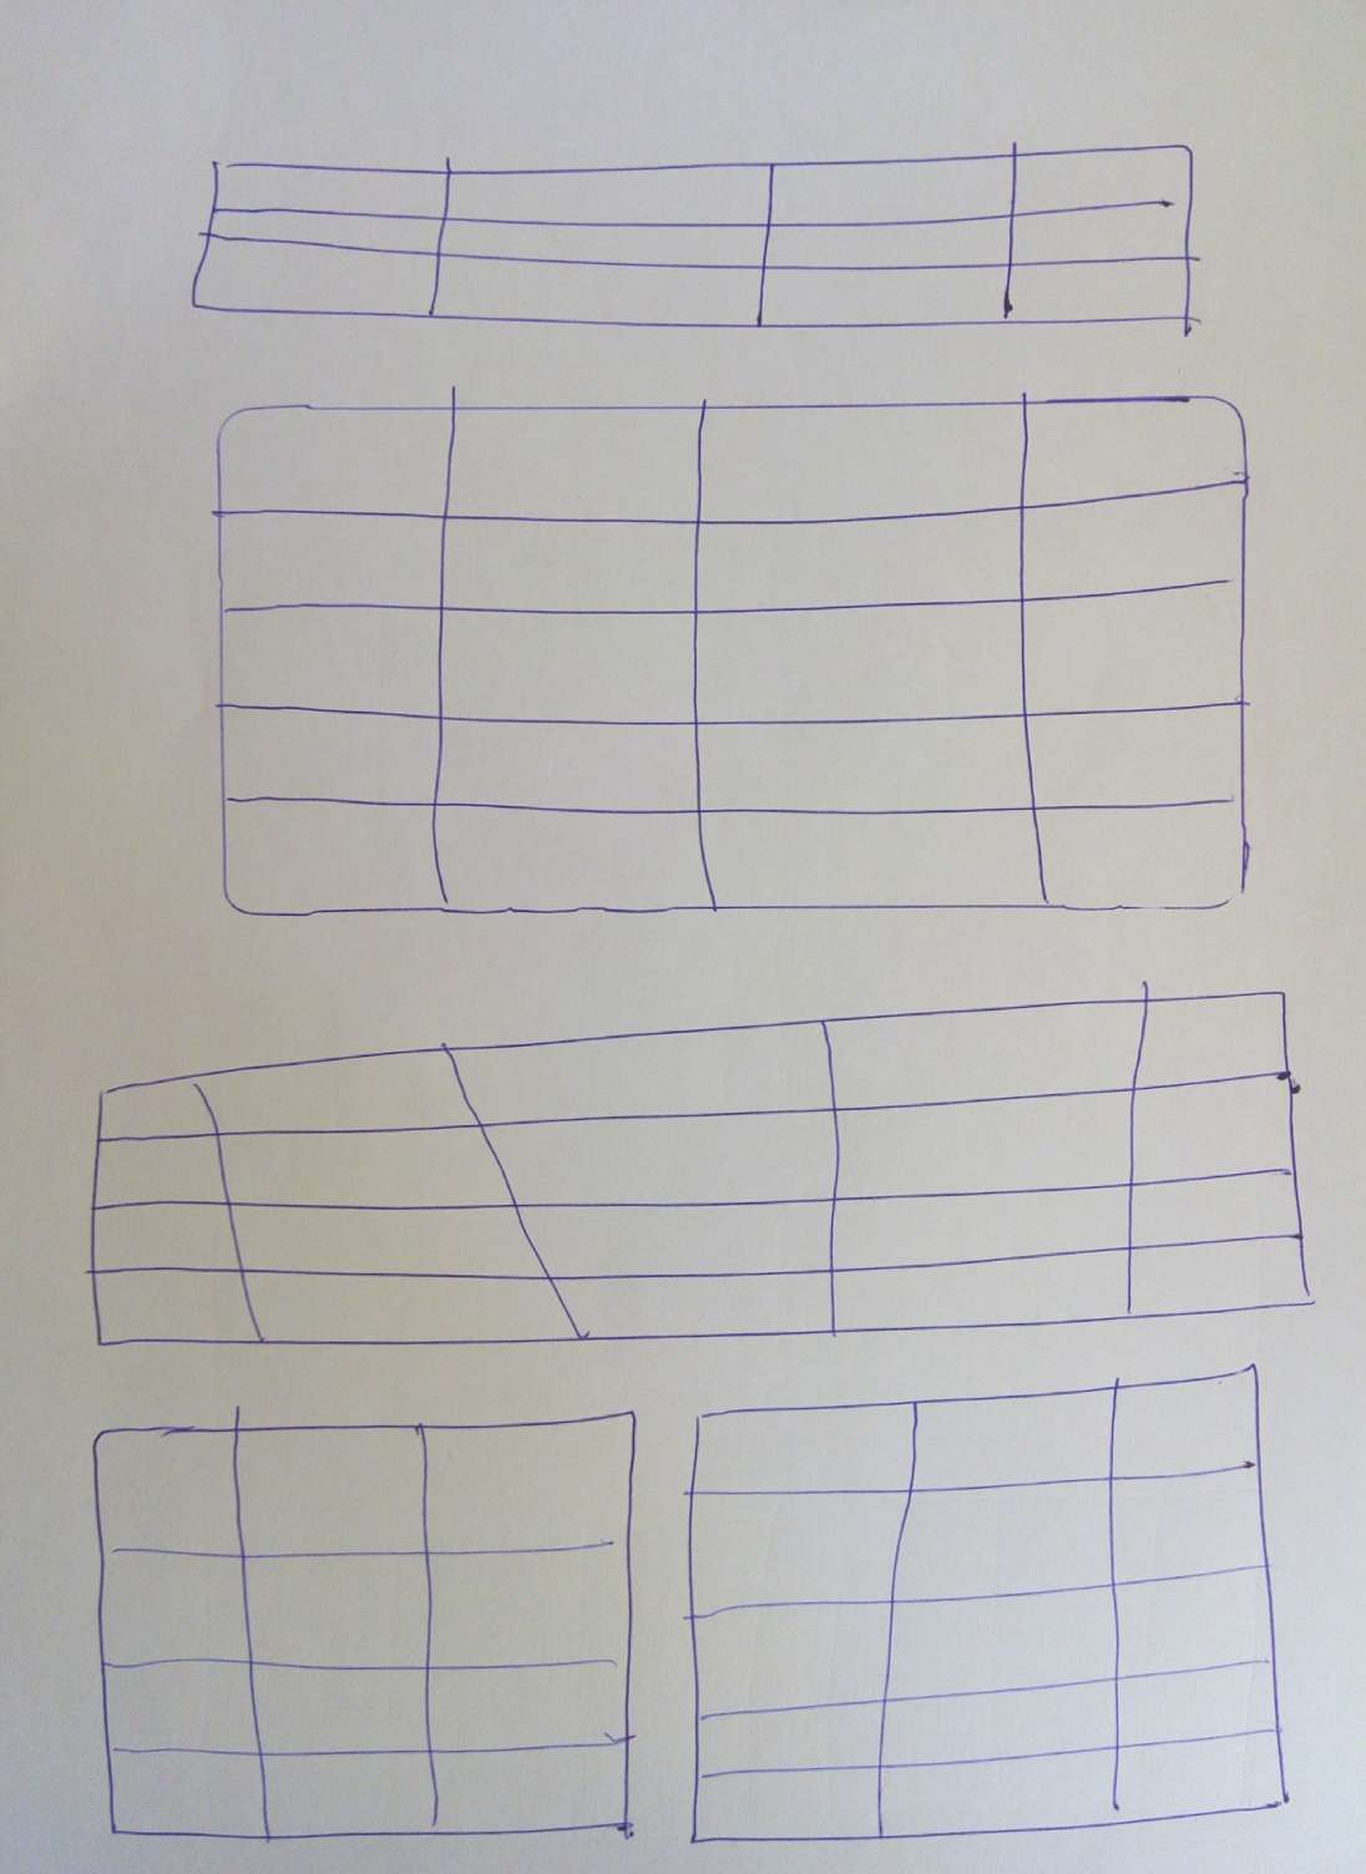Table: (211, 386, 1251, 917), (84, 981, 1317, 1346), (684, 1363, 1289, 1843), (92, 1405, 637, 1843), (192, 143, 1203, 338)
